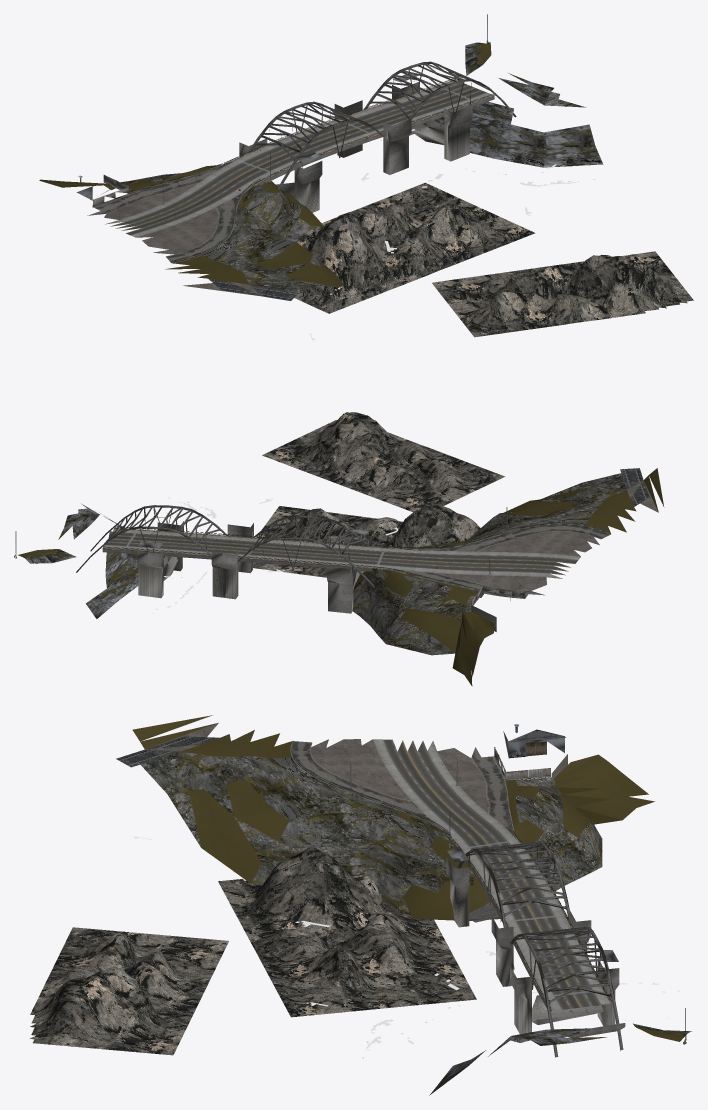
Rendered from world_camden_14_1.gltf.
The picture shows the model from 3 angles, top to bottom: view 1: azimuth 30°, elevation 25°; view 2: azimuth 150°, elevation 25°; view 3: azimuth 270°, elevation 25°; orthographic projection. The views are drawn at different scales.
Bounding box in the file's own units: 277 × 45.45 × 266.
39 materials, 39 textured.
